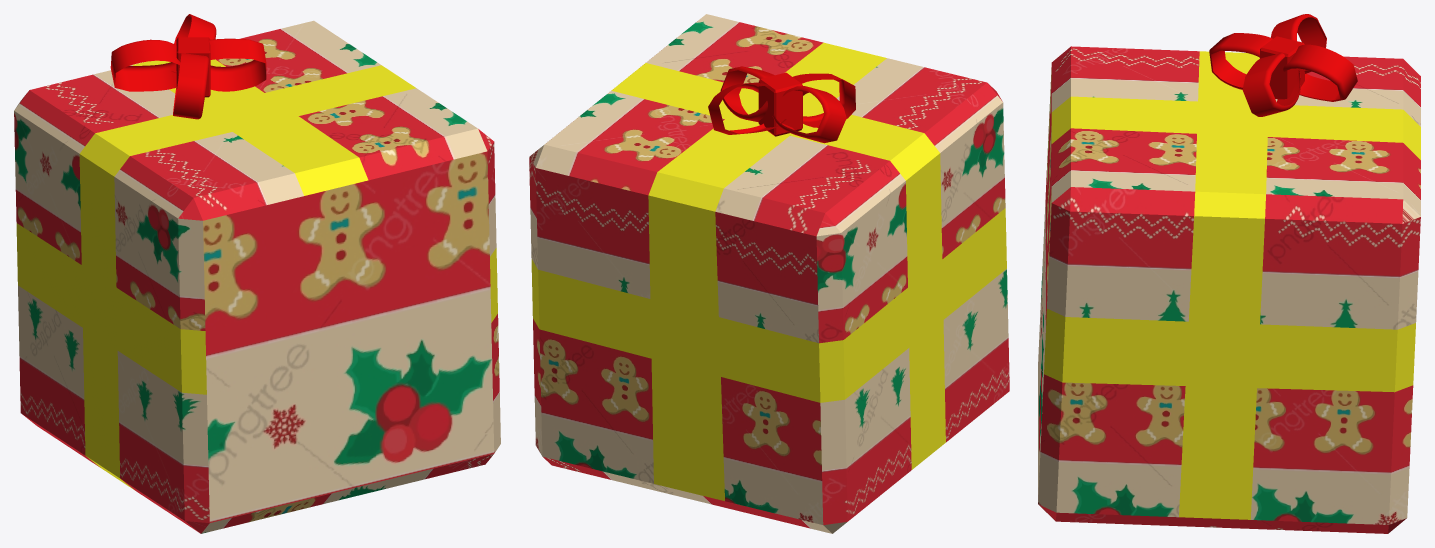
File: Regalo corregido 2.fbx
3 views of the same model, side by side, from view 1: azimuth 30°, elevation 25°; view 2: azimuth 150°, elevation 25°; view 3: azimuth 270°, elevation 25° (orthographic). The views are drawn at different scales.
Visible parts, largest first — view 1: Cube.115_Cube.116, BezierCurve, BezierCurve.001_BezierCurve.003, BezierCurve.003_BezierCurve.004, Cube.001, BezierCurve.002; view 2: Cube.115_Cube.116, Cube.001, BezierCurve, BezierCurve.001_BezierCurve.003, BezierCurve.003_BezierCurve.004, BezierCurve.002; view 3: Cube.115_Cube.116, BezierCurve.002, BezierCurve.001_BezierCurve.003, BezierCurve.003_BezierCurve.004, Cube.001, BezierCurve.
Boxes of the visible parts, box(x1,y1,x2,y2) form: Cube.115_Cube.116: box(14, 20, 500, 533); BezierCurve: box(110, 39, 180, 91); BezierCurve.001_BezierCurve.003: box(209, 38, 266, 91); BezierCurve.003_BezierCurve.004: box(173, 53, 209, 119); Cube.001: box(176, 37, 210, 97); BezierCurve.002: box(171, 14, 216, 73); Cube.115_Cube.116: box(529, 14, 1009, 533); Cube.001: box(758, 72, 802, 136); BezierCurve: box(772, 86, 846, 143); BezierCurve.001_BezierCurve.003: box(720, 66, 774, 122); BezierCurve.003_BezierCurve.004: box(793, 73, 855, 127); BezierCurve.002: box(708, 82, 786, 134); Cube.115_Cube.116: box(1038, 46, 1420, 533); BezierCurve.002: box(1283, 44, 1357, 101); BezierCurve.001_BezierCurve.003: box(1242, 53, 1300, 116); BezierCurve.003_BezierCurve.004: box(1209, 33, 1272, 89); Cube.001: box(1260, 36, 1304, 99); BezierCurve: box(1270, 14, 1326, 73).
Bounding box in the file's own units: 89.79 × 109 × 93.03.
3 materials, 1 textured.
